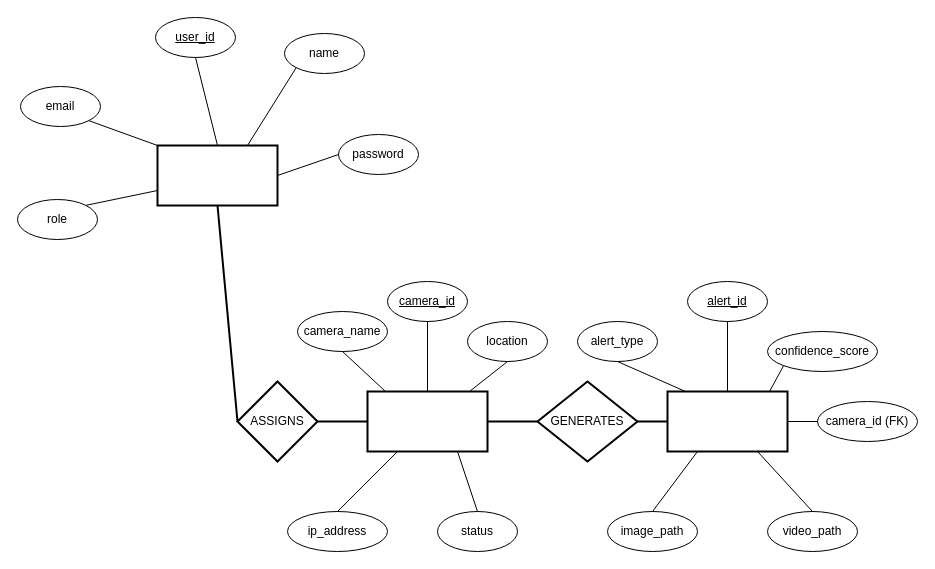
Image size: 935x569. Some labels were removed from this diagram. The shapes that lost their labels are listed below. From the top down, each one's centre as x and y in pixels, then its label:
At point (217, 175): "USER".
At point (427, 421): "CAMERA".
At point (727, 421): "ALERT".
